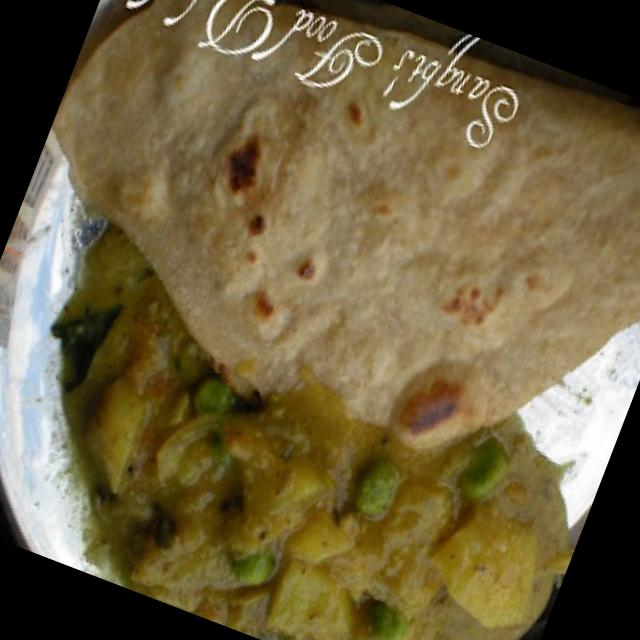roti: (55, 15, 640, 449)
